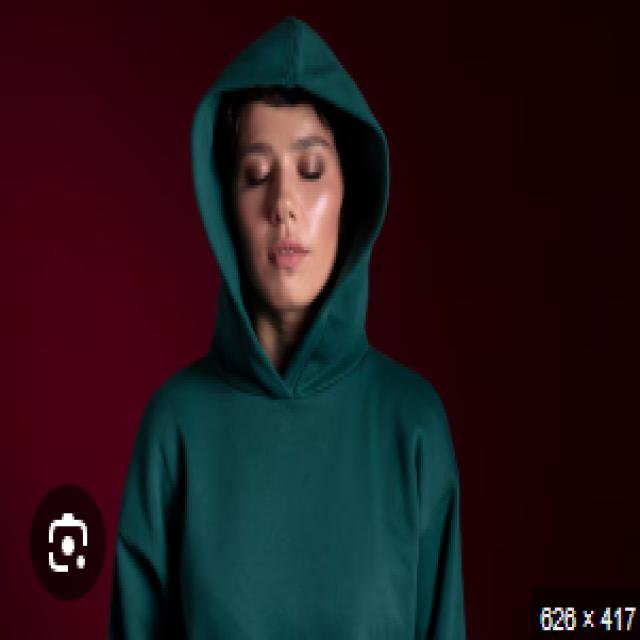4_capucha: (190, 20, 390, 398)
